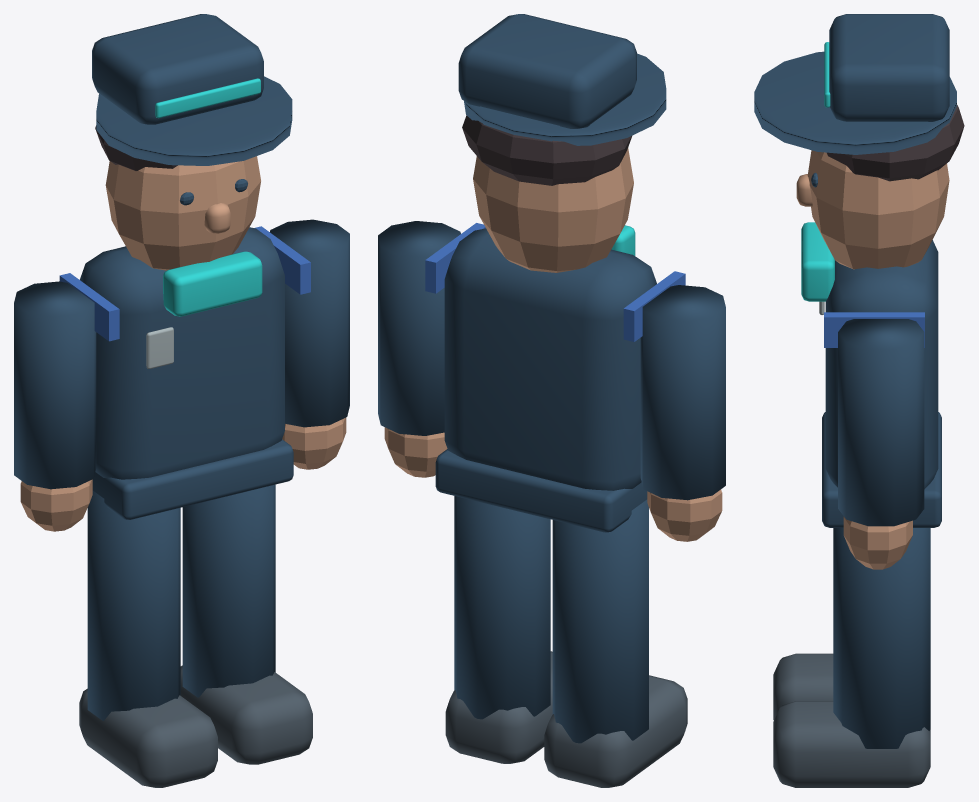
File: HL_Police_Officer.fbx
The picture shows the model from 3 angles, left to right: view 1: azimuth 30°, elevation 25°; view 2: azimuth 150°, elevation 25°; view 3: azimuth 270°, elevation 25°; orthographic projection. The views are drawn at different scales.
Visible parts, largest first — view 1: Torso | tailored jacket.002, Leg | trousers.002, Leg | trousers.003, Arm | sleeve.004, Uniform | hat crown, Head | face.002, Arm | sleeve.005, Uniform | hat brim, Foot | sneaker.004, Foot | sneaker.005, Torso | belt.002, Torso | collar.002 (+8 smaller); view 2: Torso | tailored jacket.002, Leg | trousers.002, Leg | trousers.003, Arm | sleeve.004, Uniform | hat crown, Arm | sleeve.005, Head | face.002, Torso | belt.002, Foot | sneaker.004, Head | hair cap.002, Uniform | hat brim, Foot | sneaker.005 (+4 smaller); view 3: Leg | trousers.003, Arm | sleeve.005, Uniform | hat crown, Head | face.002, Foot | sneaker.005, Torso | tailored jacket.002, Uniform | hat brim, Head | hair cap.002, Foot | sneaker.004, Arm | hand.005, Torso | belt.002, Torso | collar.002 (+3 smaller).
Boxes of the visible parts, x1,y1,x2,y2 form: Torso | tailored jacket.002: (80,227,284,479); Leg | trousers.002: (87,490,180,720); Leg | trousers.003: (182,484,275,697); Arm | sleeve.004: (14,281,96,489); Uniform | hat crown: (92,14,263,124); Head | face.002: (105,156,260,270); Arm | sleeve.005: (270,219,349,427); Uniform | hat brim: (96,76,292,165); Foot | sneaker.004: (79,688,217,787); Foot | sneaker.005: (180,665,312,764); Torso | belt.002: (92,439,293,519); Torso | collar.002: (163,251,262,316); Torso | tailored jacket.002: (444,228,656,490); Leg | trousers.002: (552,499,648,743); Leg | trousers.003: (454,496,550,719); Arm | sleeve.004: (640,285,725,500); Uniform | hat crown: (458,14,636,128); Arm | sleeve.005: (378,221,460,435); Head | face.002: (473,148,633,272); Torso | belt.002: (435,449,647,532); Foot | sneaker.004: (544,675,687,787); Head | hair cap.002: (462,115,631,185); Uniform | hat brim: (464,53,666,145); Foot | sneaker.005: (445,651,552,763); Leg | trousers.003: (833,528,930,748); Arm | sleeve.005: (838,319,924,526); Uniform | hat crown: (829,14,949,121); Head | face.002: (807,150,949,269); Foot | sneaker.005: (773,701,930,787); Torso | tailored jacket.002: (825,240,938,489); Uniform | hat brim: (754,51,956,154); Head | hair cap.002: (827,105,964,181); Foot | sneaker.004: (773,653,833,720); Arm | hand.005: (843,516,912,569); Torso | belt.002: (822,412,941,527); Torso | collar.002: (801,222,834,301).
Bounding box in the file's own units: 102 × 210 × 56.
